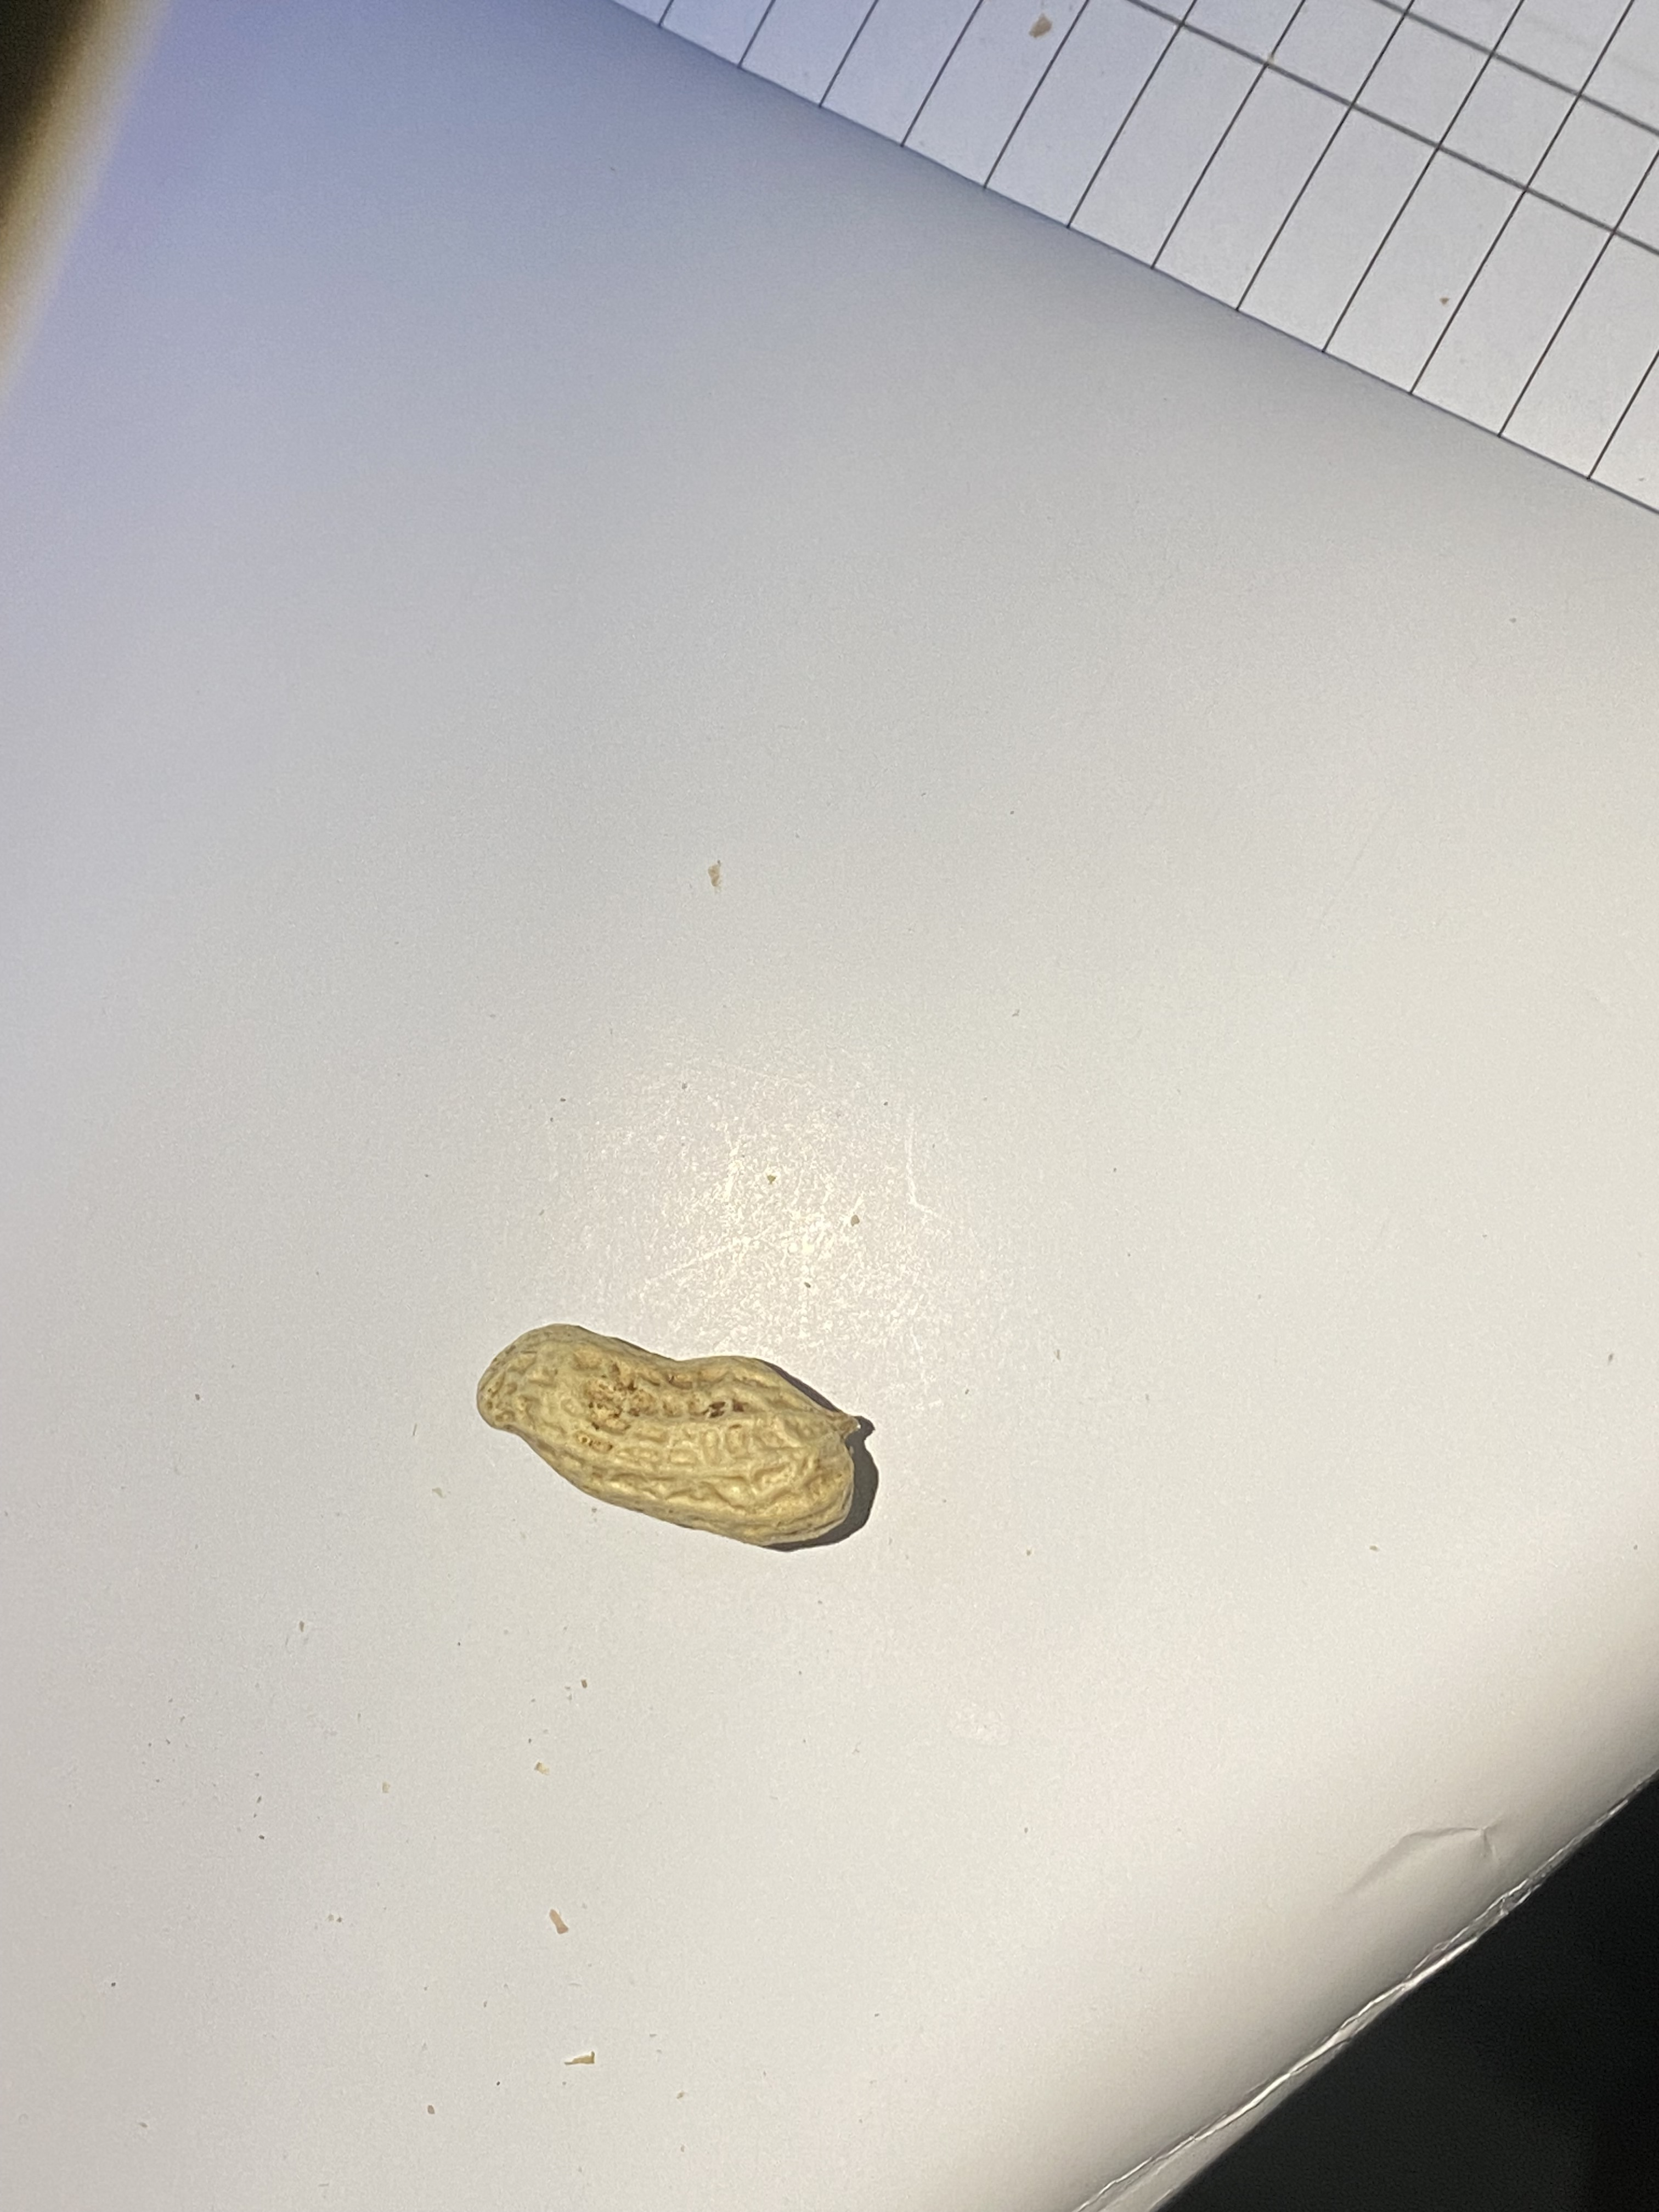kacang2: (460, 1305, 885, 1555)
